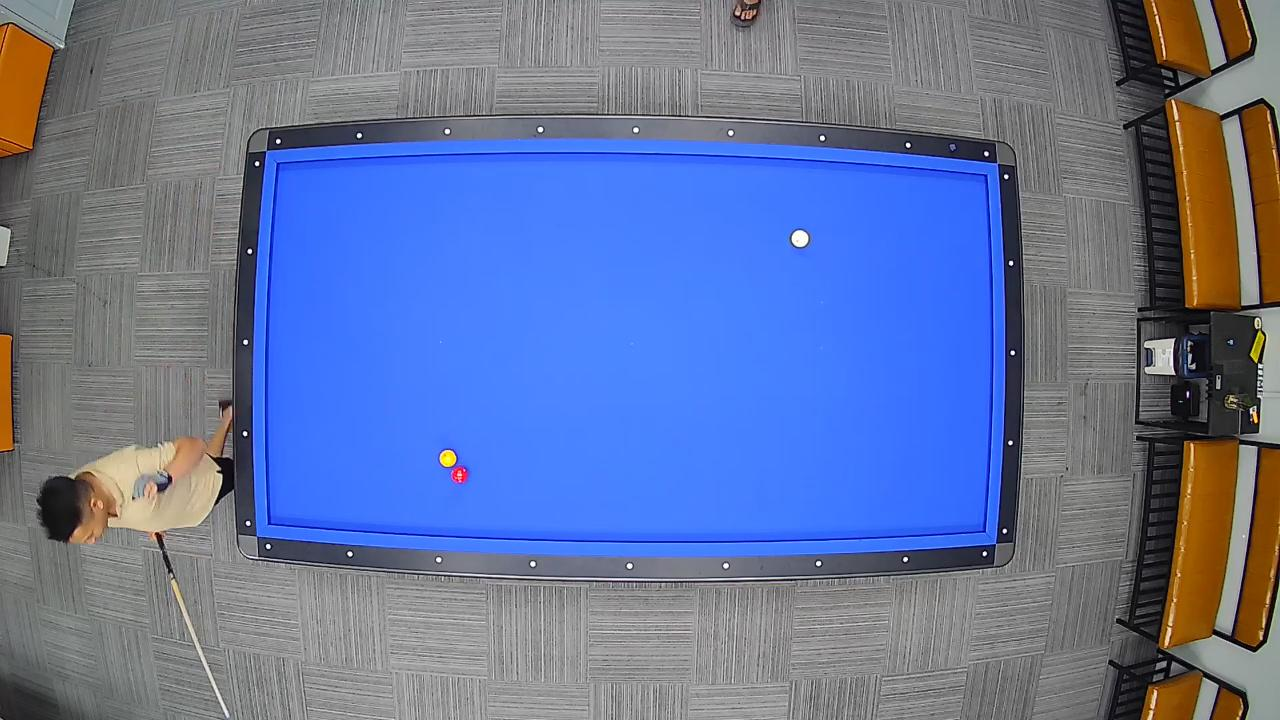Red: (451, 466, 468, 485)
White: (790, 228, 810, 250)
Yellow: (438, 448, 458, 468)
